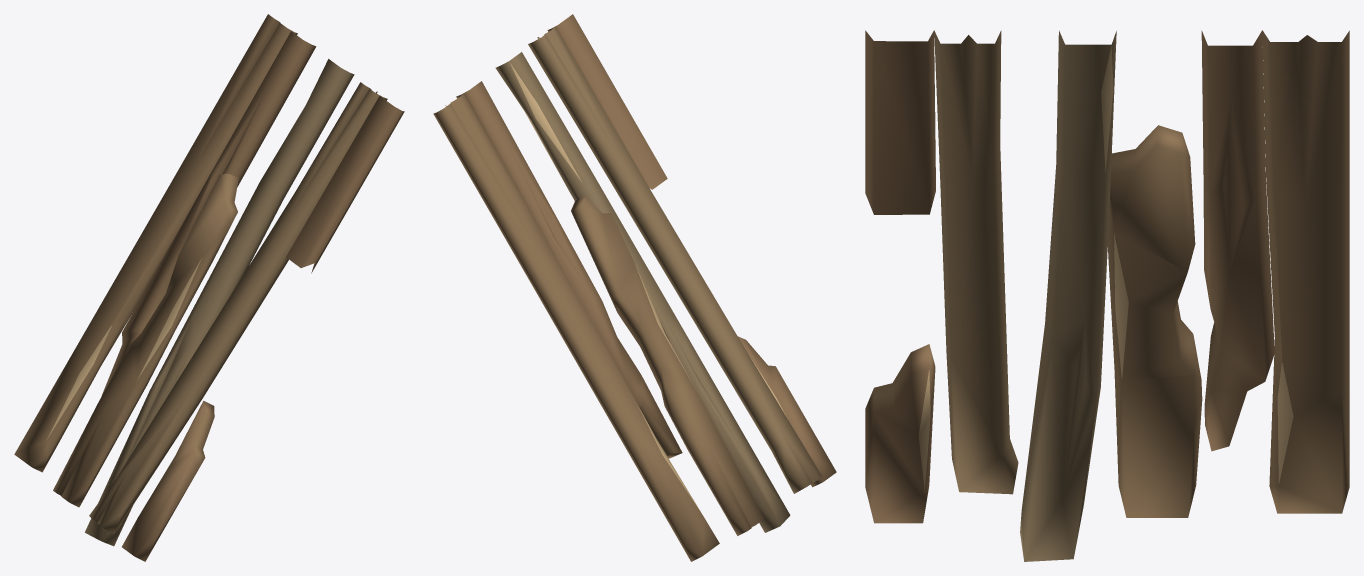
Rendered from rpgpp_av_roof_02_6x5x3_half_a.gltf.
3 renders of one model, left to right at view 1: azimuth 30°, elevation 25°; view 2: azimuth 150°, elevation 25°; view 3: azimuth 270°, elevation 25°, orthographic. The views are drawn at different scales.
Visible parts, largest first — view 1: rpgpp_av_roof_02_6x5x3_half_a; view 2: rpgpp_av_roof_02_6x5x3_half_a; view 3: rpgpp_av_roof_02_6x5x3_half_a.
Boxes of the visible parts, <box> form: rpgpp_av_roof_02_6x5x3_half_a: <box>14,14,404,561</box>; rpgpp_av_roof_02_6x5x3_half_a: <box>433,14,836,561</box>; rpgpp_av_roof_02_6x5x3_half_a: <box>865,30,1349,561</box>.
Bounding box in the file's own units: 0.0373 × 0.0521 × 0.03.
1 material, 1 textured.
